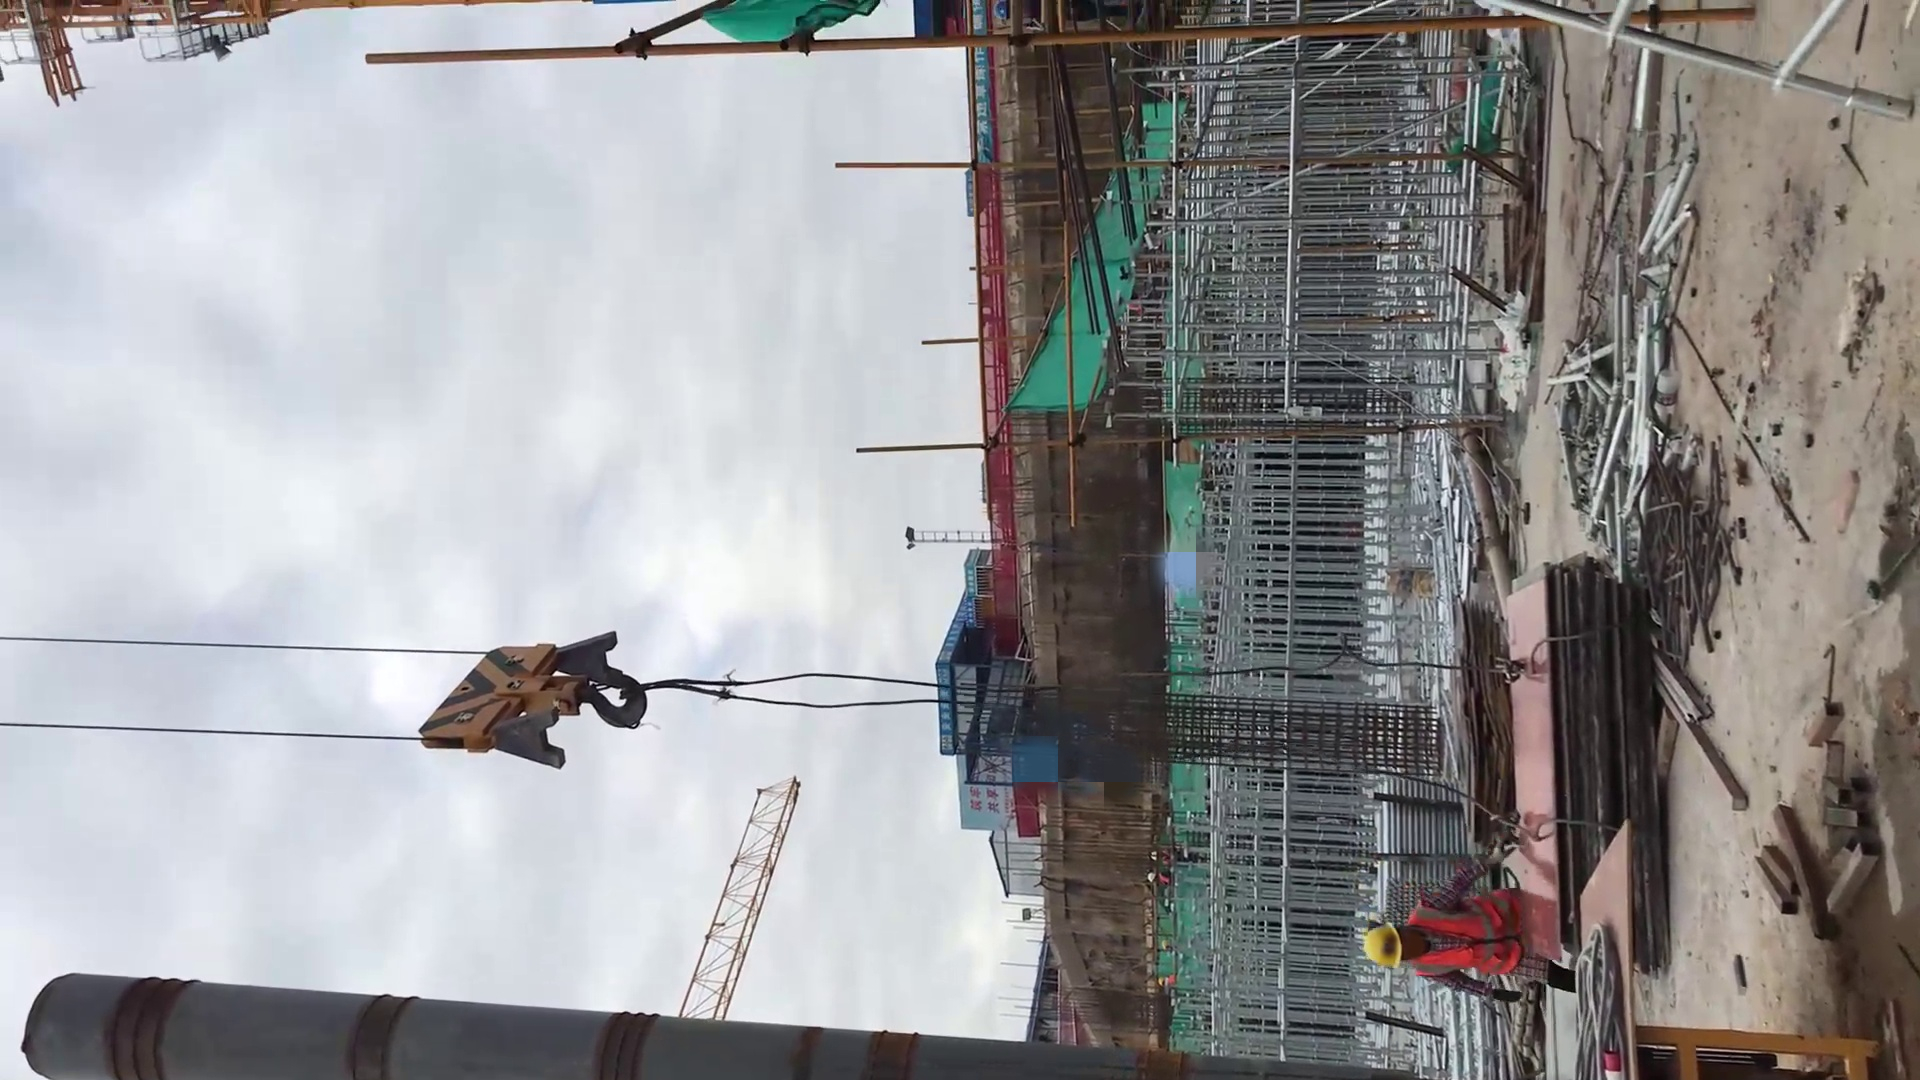board: (1504, 574, 1678, 974), (1452, 597, 1511, 845)
helmet: (1361, 920, 1404, 970), (1147, 871, 1156, 884), (1150, 850, 1159, 862)
hook: (414, 628, 649, 772)
person: (1360, 831, 1577, 1005), (1149, 849, 1199, 864), (1147, 868, 1176, 890)
scaffold: (1375, 775, 1488, 901), (1413, 983, 1517, 1080)
slogan: (937, 545, 982, 757), (968, 1, 992, 164), (964, 757, 1005, 816)
vest: (1405, 886, 1525, 978), (1156, 872, 1170, 887)
